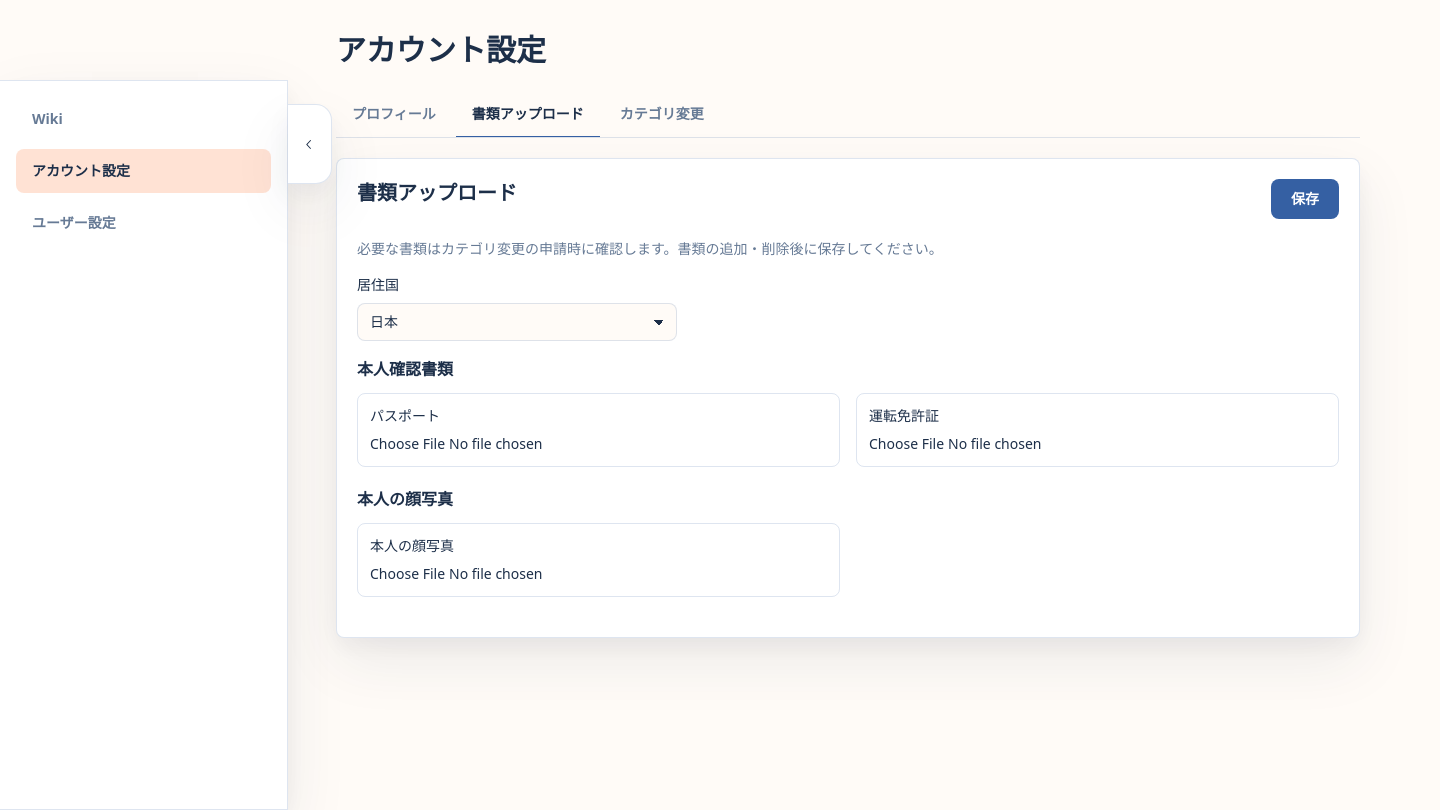
Test case: admin page clients › filters individual account documents by residence country
This screenshot has width=1440, height=810.
Expected: the heading "書類アップロード" is shown, [357,179,517,207]
Expected: the text "住民登録書類" is not shown
Select "韓国" in the dropdown labelled "居住国" at x=517, y=322, box [357,303,677,341]
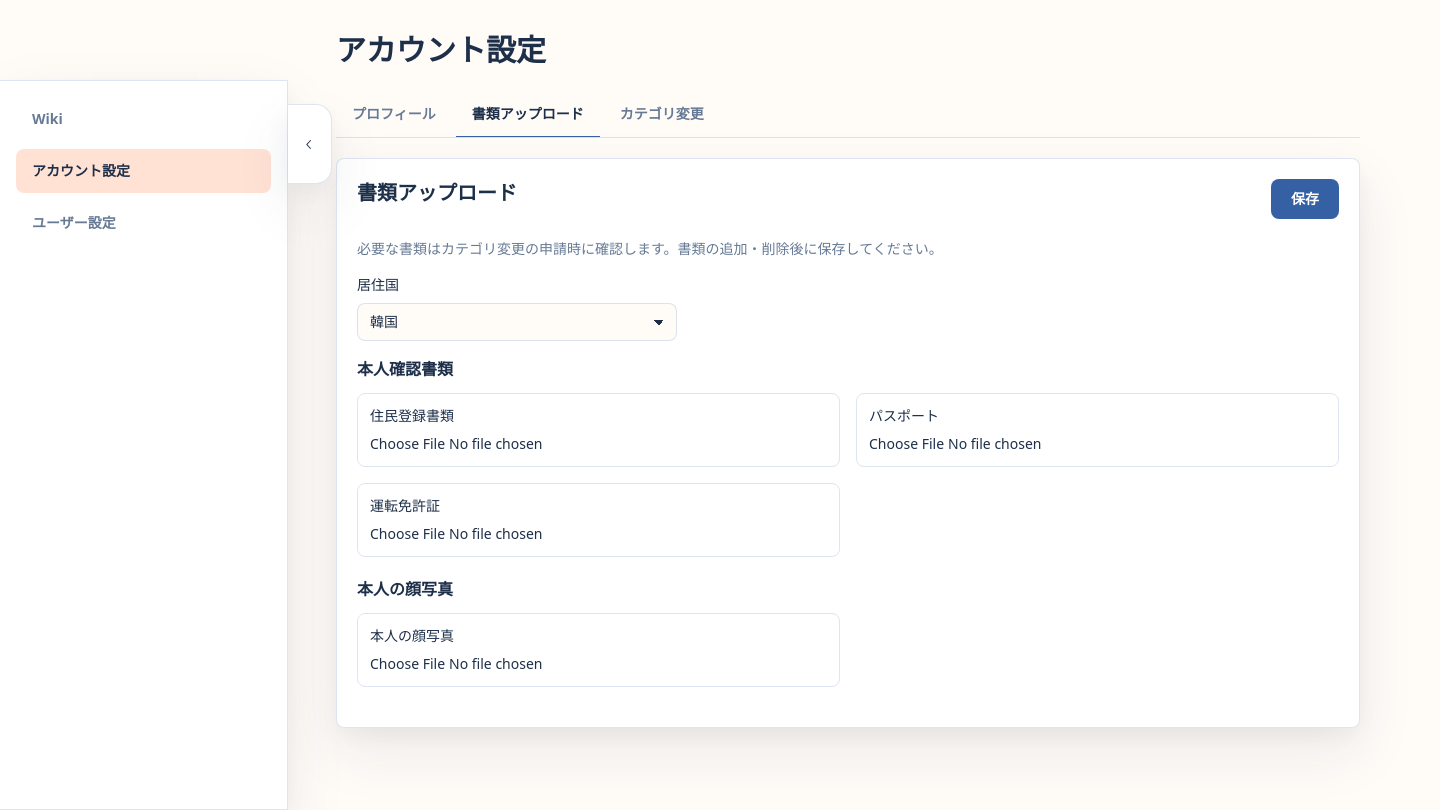
Expected: the text "運転免許証" is shown, [370,496,440,515]
Expected: the text "住民登録書類" is shown, [370,406,454,425]
Select "その他" in the dropdown labelled "居住国" at x=517, y=322, box [357,303,677,341]
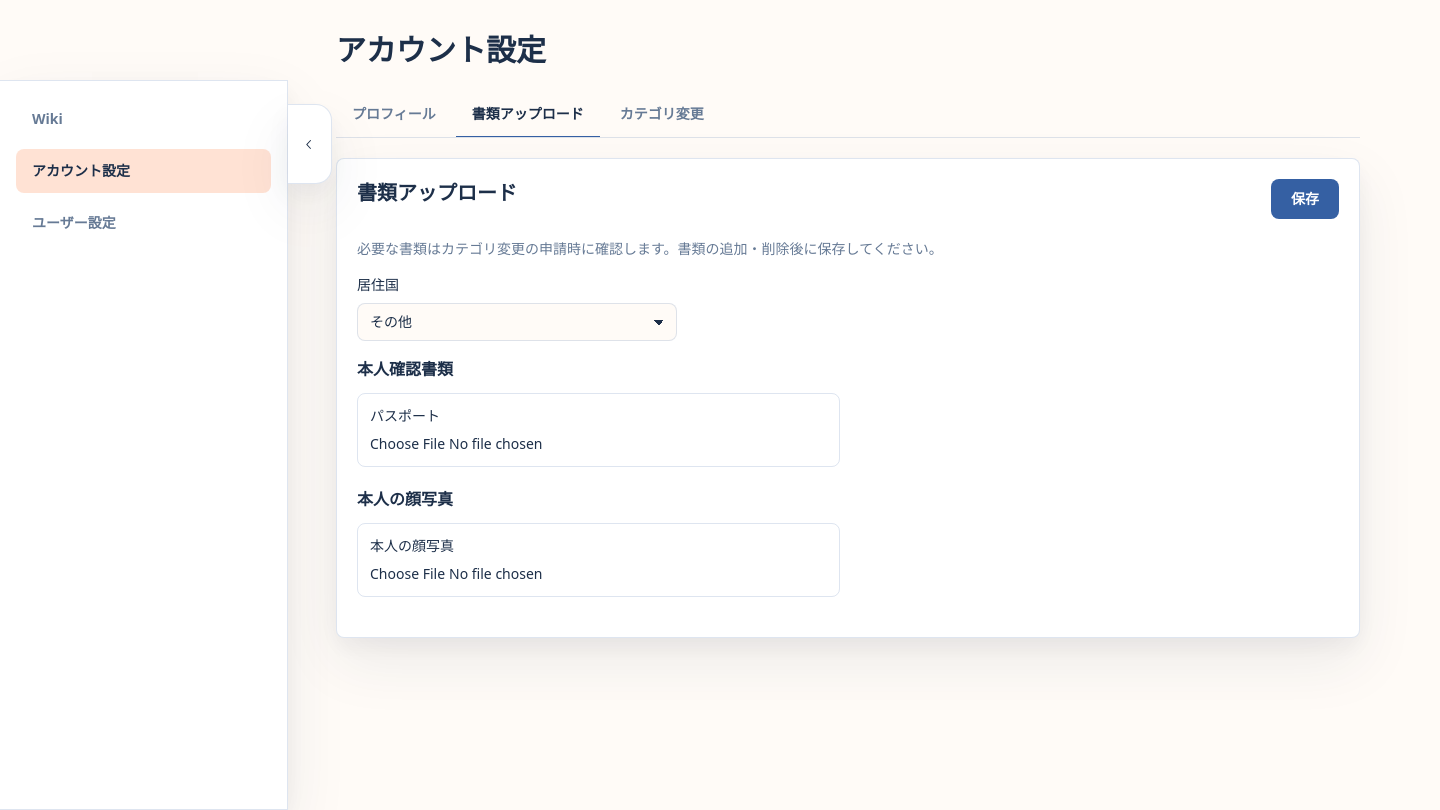
Expected: the text "パスポート" is shown, [370,406,440,425]
Expected: the text "住民登録書類" is gone
Expected: the text "運転免許証" is gone
